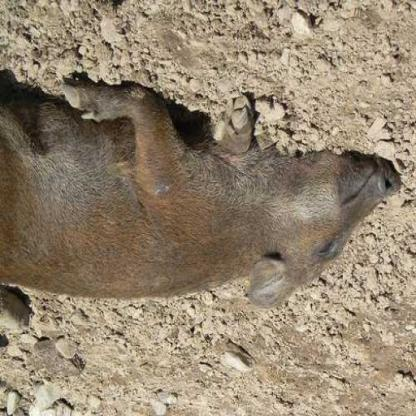boar: (0, 71, 401, 351)
